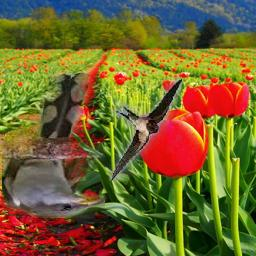Cuckoo: (3, 74, 106, 219)
Swallow: (110, 77, 183, 182)
